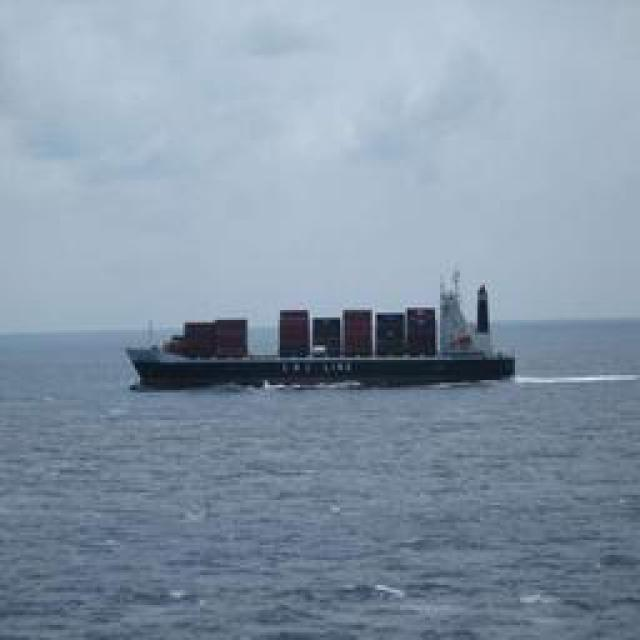Ship: (129, 289, 514, 392)
